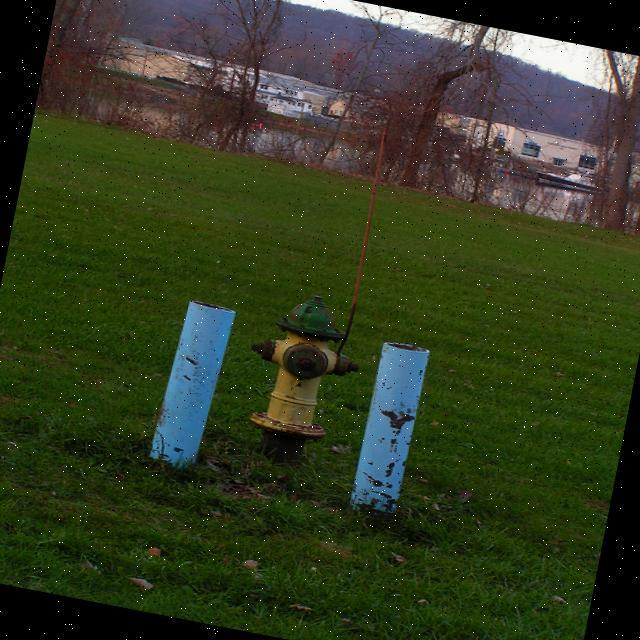fire_hydrant: (228, 283, 374, 474)
